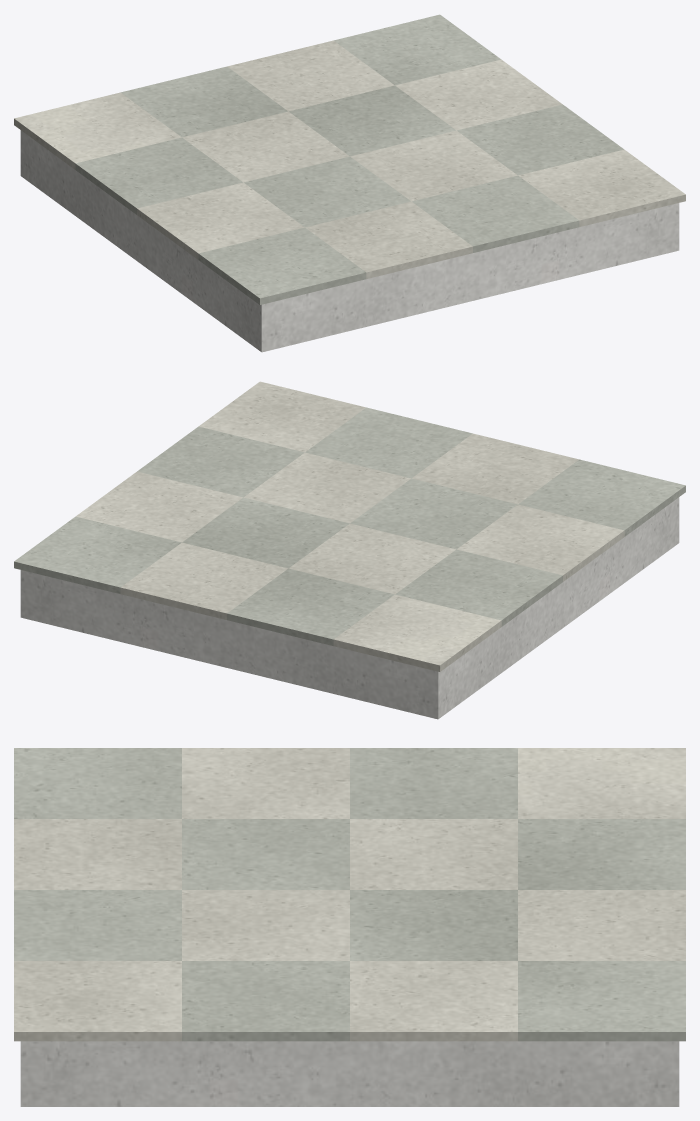
File: floor_vct_u.glb
The picture shows the model from 3 angles, top to bottom: view 1: azimuth 30°, elevation 25°; view 2: azimuth 150°, elevation 25°; view 3: azimuth 270°, elevation 25°; orthographic projection. The views are drawn at different scales.
Parts seen in each view (by area): view 1: floor_vct_u_vct2, floor_vct_u_vct, floor_vct_u_plaster; view 2: floor_vct_u_vct, floor_vct_u_vct2, floor_vct_u_plaster; view 3: floor_vct_u_vct, floor_vct_u_vct2, floor_vct_u_plaster.
Part boxes in pixels (box(x1,y1,x2,y2)): floor_vct_u_vct2: box(75, 14, 623, 304); floor_vct_u_vct: box(14, 40, 685, 278); floor_vct_u_plaster: box(20, 130, 679, 352); floor_vct_u_vct: box(76, 381, 624, 671); floor_vct_u_vct2: box(14, 407, 685, 645); floor_vct_u_plaster: box(20, 497, 679, 719); floor_vct_u_vct: box(14, 748, 685, 1041); floor_vct_u_vct2: box(14, 748, 685, 1041); floor_vct_u_plaster: box(20, 1041, 679, 1106).
Size of the model in its own units: 2 by 0.255 by 2.
Materials: 3 (3 with a texture image).
